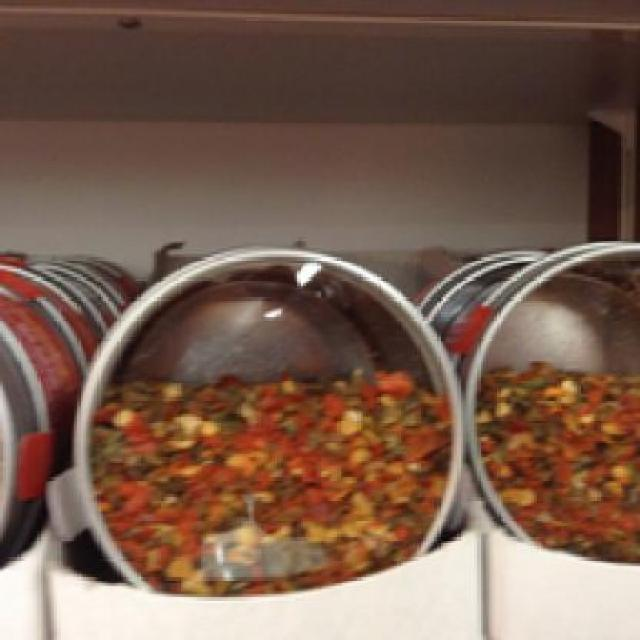Spices: (66, 243, 460, 592), (465, 240, 638, 563)
